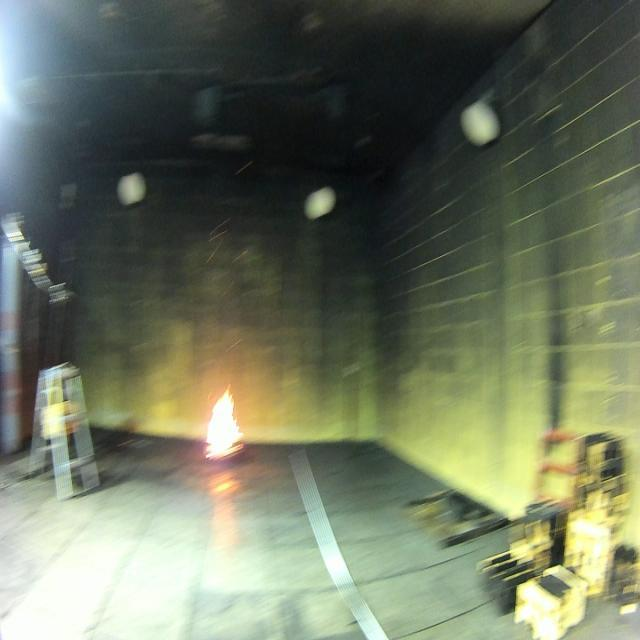Fire: (206, 384, 243, 461)
